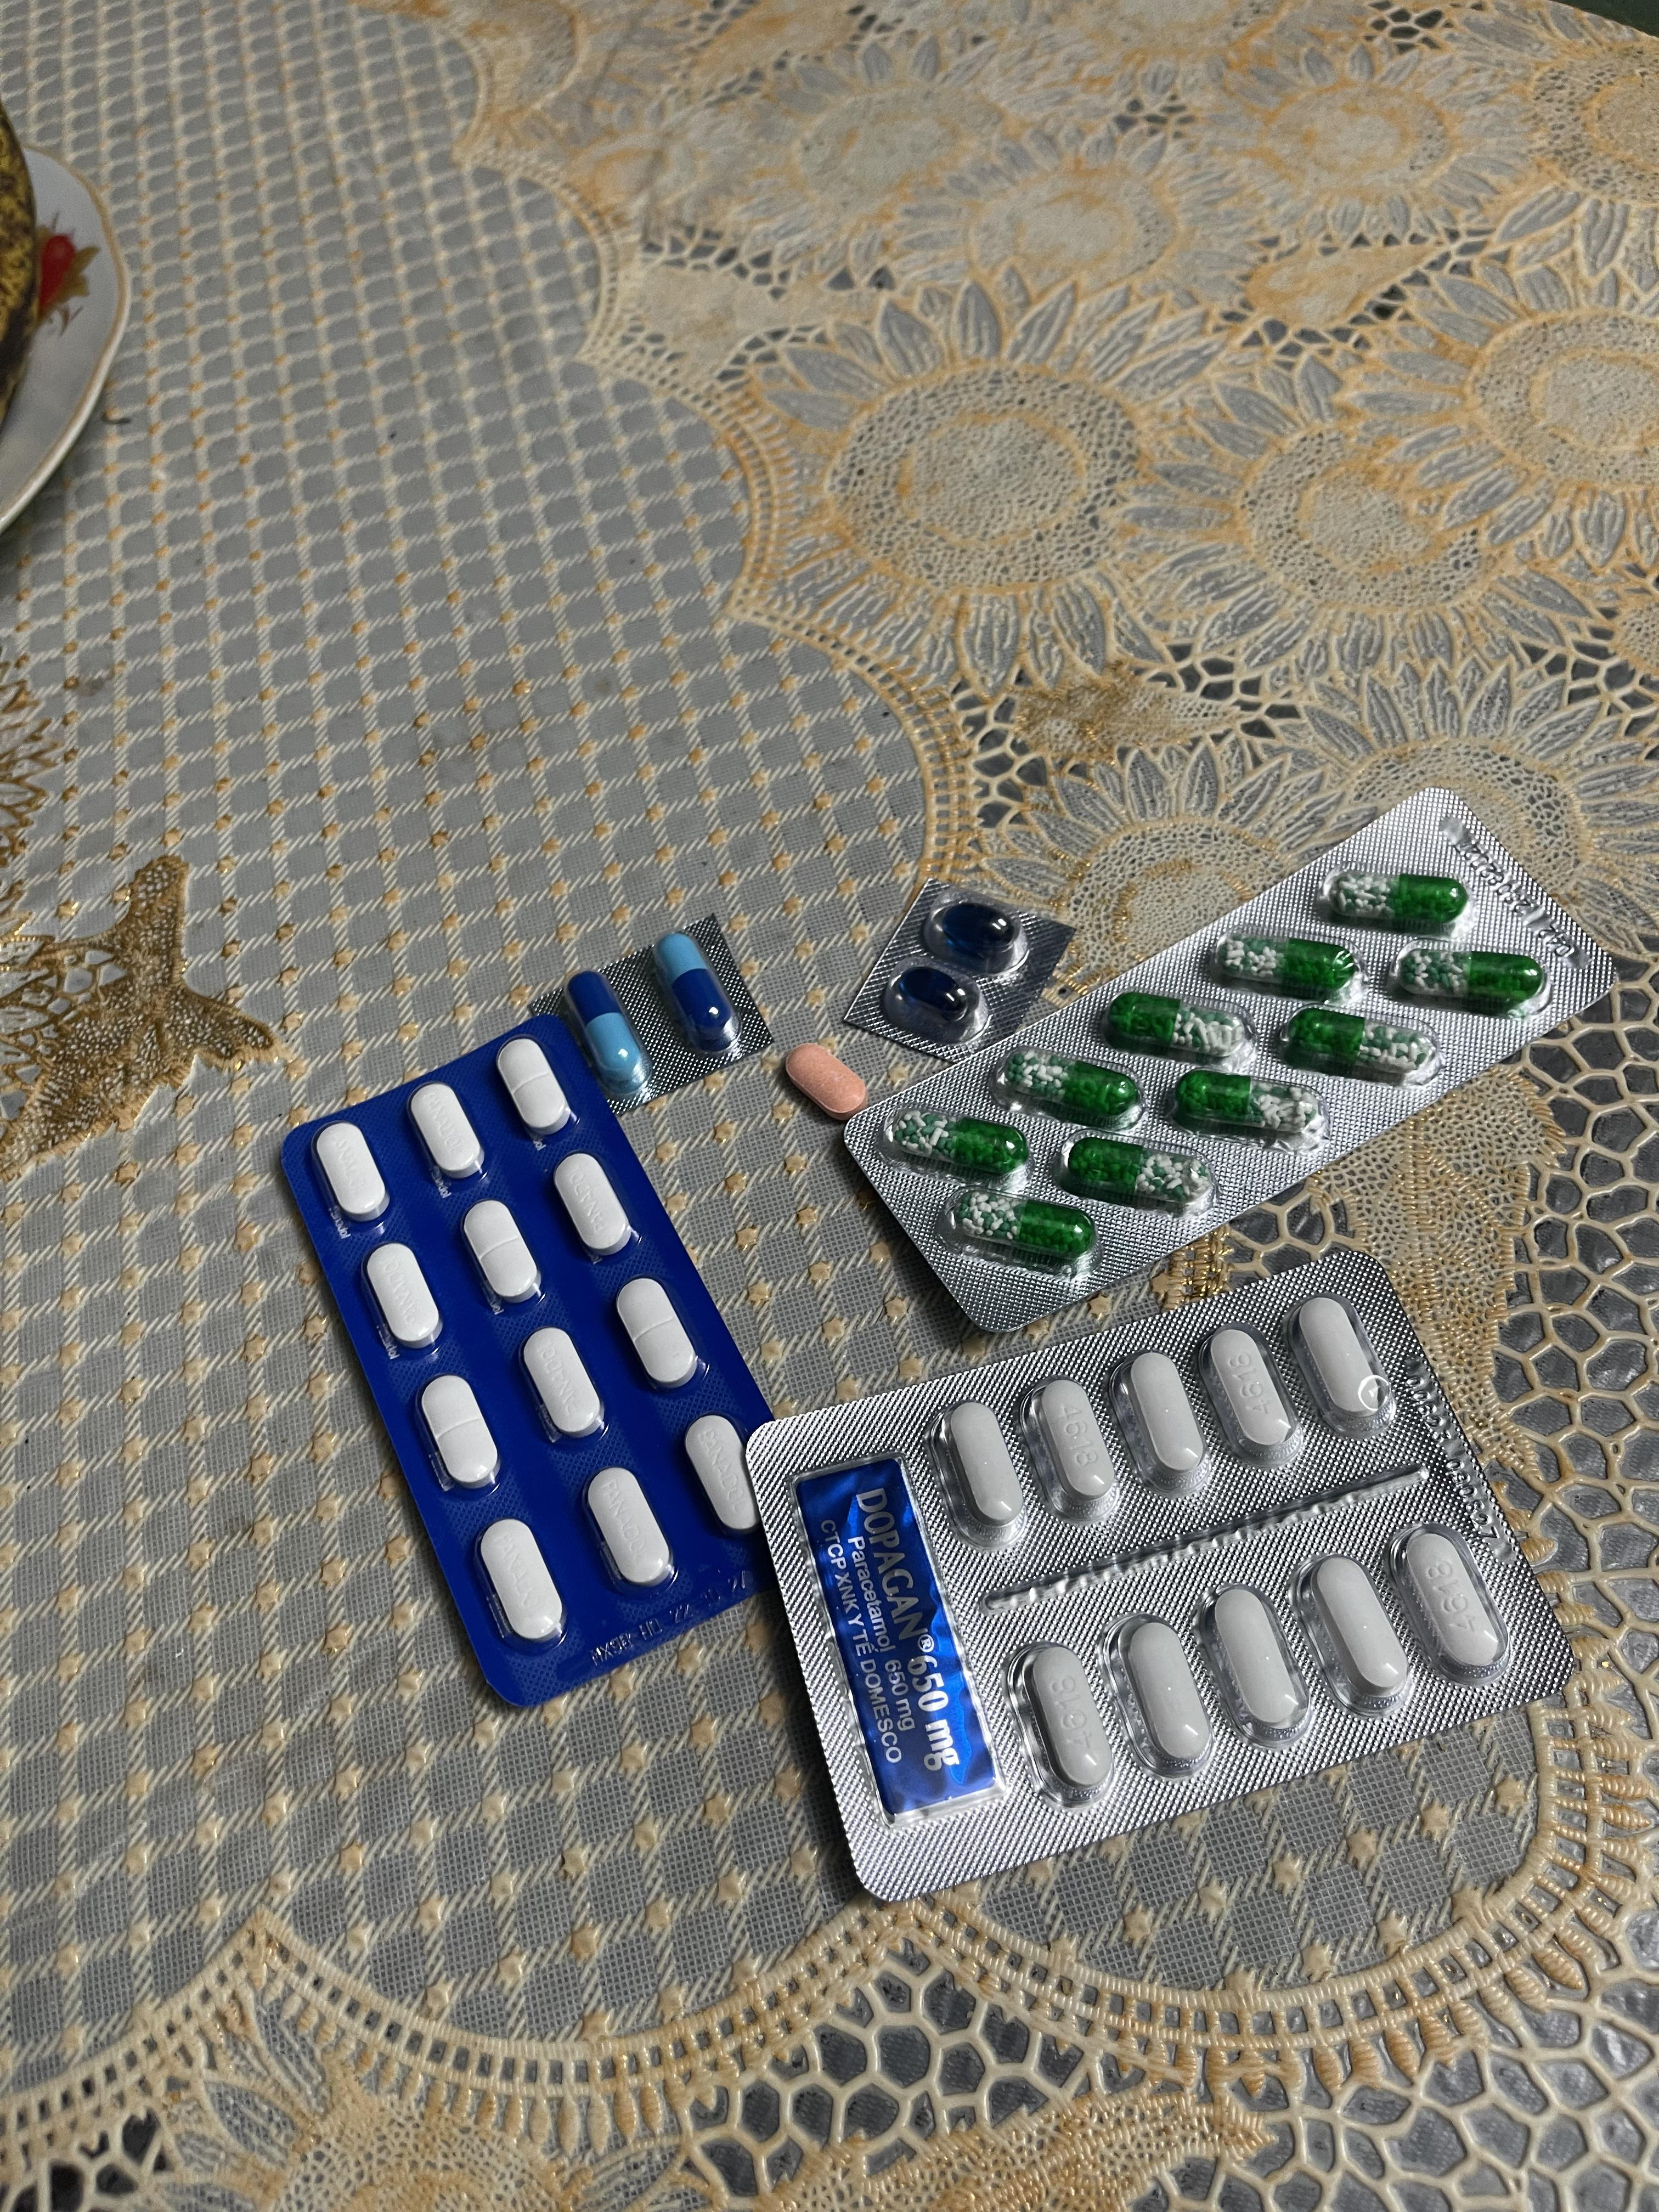Lincomyxin_500mg: (938, 902, 1019, 963), (899, 967, 969, 1019)
Loratadine_10mg: (784, 1042, 868, 1120)
Paracetamol_350mg: (477, 1519, 566, 1646), (586, 1467, 673, 1587), (418, 1376, 500, 1491), (521, 1327, 605, 1439), (617, 1280, 701, 1390), (554, 1153, 636, 1256), (685, 1413, 756, 1529), (364, 1242, 443, 1348), (464, 1202, 540, 1305), (314, 1122, 389, 1221), (410, 1083, 484, 1179), (497, 1040, 573, 1132)
Paracetamol_500mg: (1389, 1524, 1516, 1683), (1295, 1554, 1415, 1717), (1009, 1634, 1117, 1806), (1103, 1613, 1211, 1784), (1204, 1580, 1314, 1747), (1112, 1348, 1216, 1507), (1197, 1322, 1304, 1474), (1290, 1294, 1396, 1444), (1025, 1372, 1122, 1526), (934, 1402, 1032, 1548)
Paracetamol_650mg: (1276, 1007, 1438, 1083), (941, 1188, 1100, 1264), (1166, 1071, 1321, 1148), (1103, 986, 1255, 1059), (1002, 1052, 1147, 1125), (1223, 932, 1375, 1000), (1396, 946, 1546, 1014), (887, 1108, 1026, 1177), (1070, 1137, 1202, 1211), (1328, 871, 1467, 934)
pill: (565, 970, 652, 1099), (657, 935, 742, 1050)
